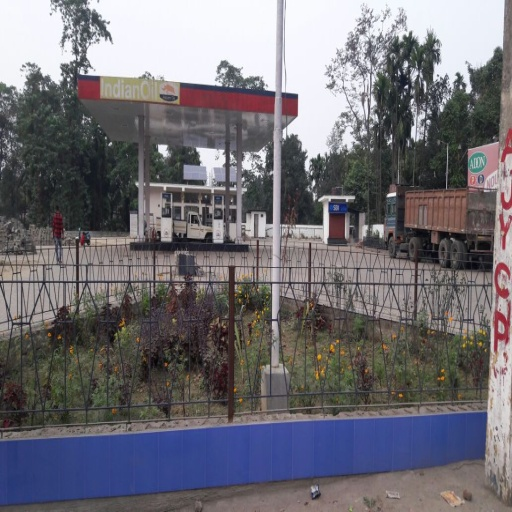roof: (76, 75, 297, 142)
